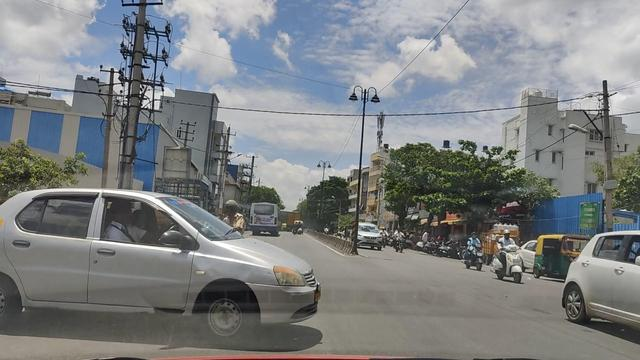LMV: (7, 189, 325, 343), (222, 189, 249, 229)
